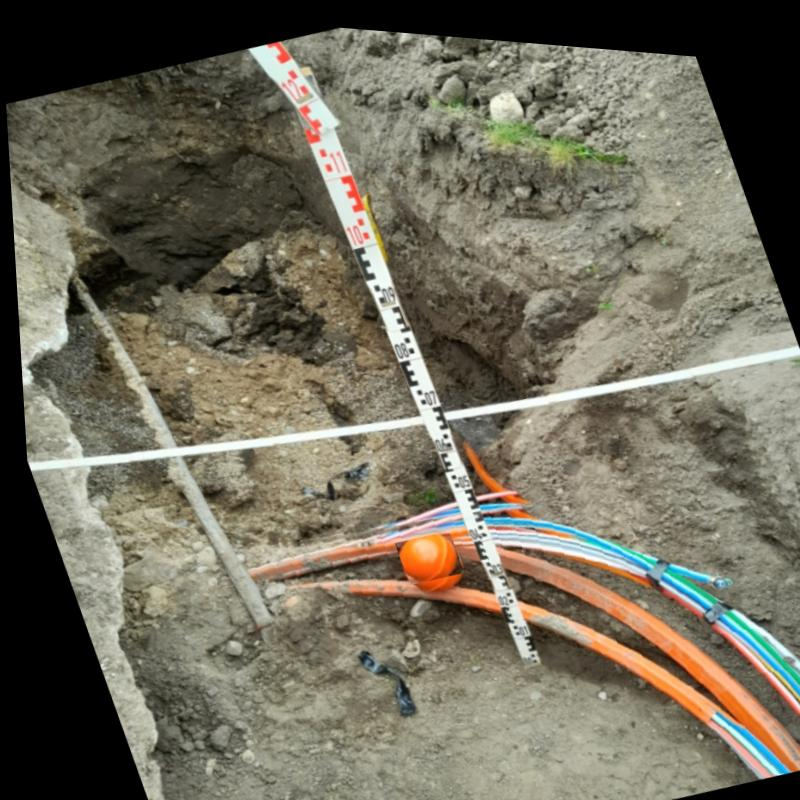Kugelmarker: (394, 529, 453, 574)
Orang-Speednetrohrchen: (238, 504, 800, 767)
